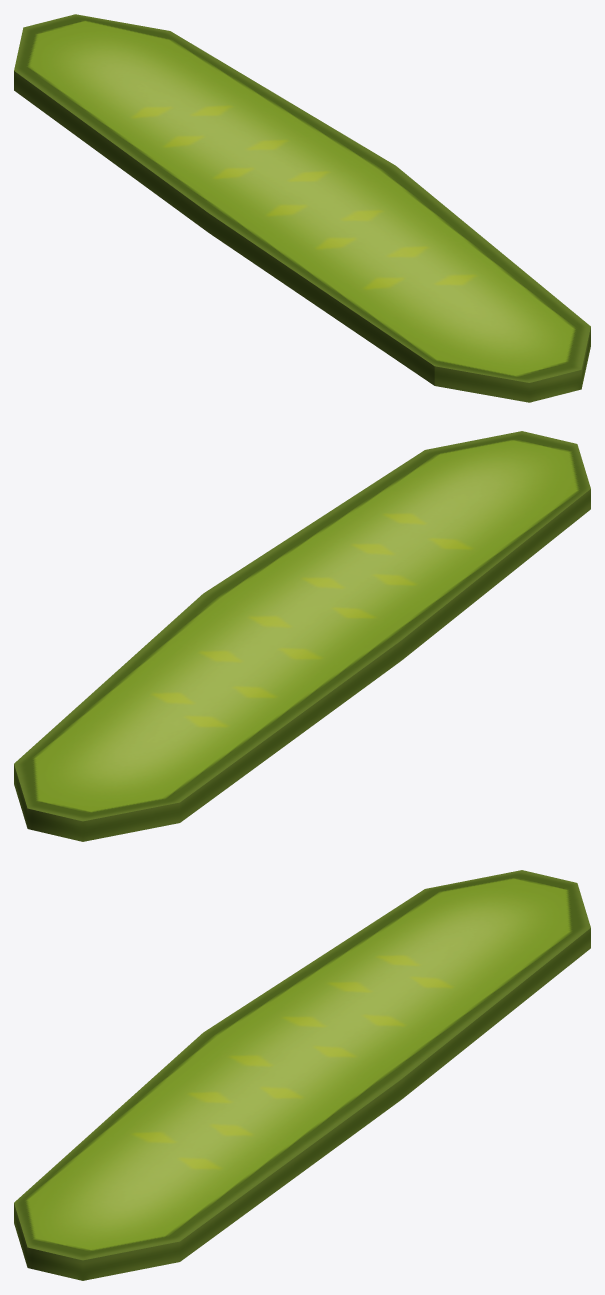
The model's file is fff_burger_pickle_long.FBX.
3 views of the same model, one above another, from view 1: azimuth 30°, elevation 25°; view 2: azimuth 150°, elevation 25°; view 3: azimuth 330°, elevation 25° (orthographic). The views are drawn at different scales.
Visible parts, largest first — view 1: fff_burger_pickle_long; view 2: fff_burger_pickle_long; view 3: fff_burger_pickle_long.
Part boxes in pixels (x1,y1,x2,y2): fff_burger_pickle_long: [14, 14, 590, 402]; fff_burger_pickle_long: [14, 431, 590, 841]; fff_burger_pickle_long: [14, 870, 590, 1280].
Size of the model in its own units: 1.26 by 0.1827 by 5.66.
